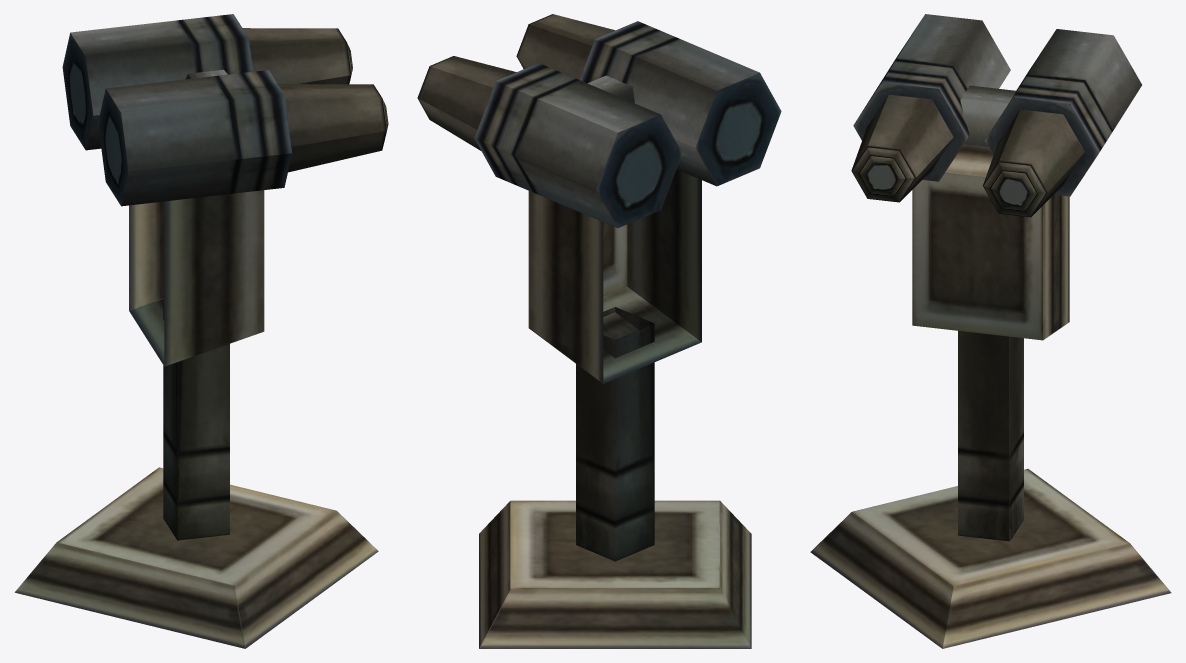
3 views of the same model, side by side, from view 1: azimuth 30°, elevation 25°; view 2: azimuth 150°, elevation 25°; view 3: azimuth 270°, elevation 25° (orthographic). The views are drawn at different scales.
Visible parts, largest first — view 1: CrossbellObservationBinoculars; view 2: CrossbellObservationBinoculars; view 3: CrossbellObservationBinoculars.
Part boxes in pixels (left/top/right/bottom): CrossbellObservationBinoculars: left=15, top=14, right=388, bottom=648; CrossbellObservationBinoculars: left=417, top=14, right=781, bottom=648; CrossbellObservationBinoculars: left=810, top=14, right=1171, bottom=648.
Size of the model in its own units: 1.22 by 1.82 by 1.18.
Materials: 8 (8 with a texture image).
